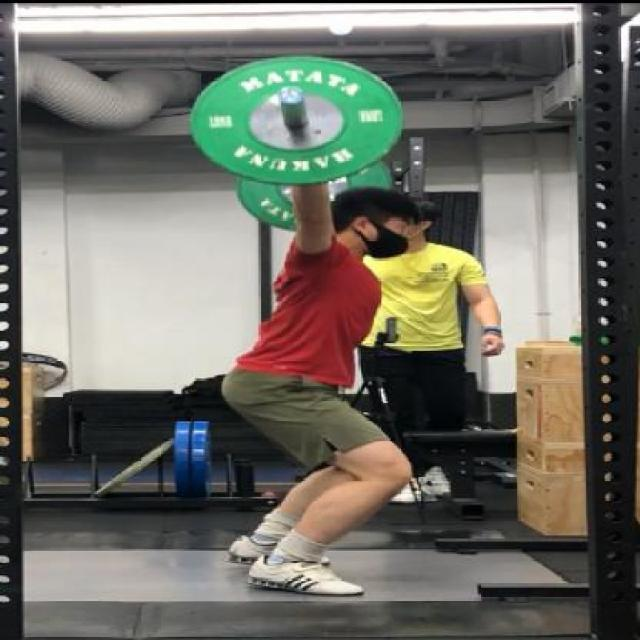Barbell: (278, 85, 307, 108)
